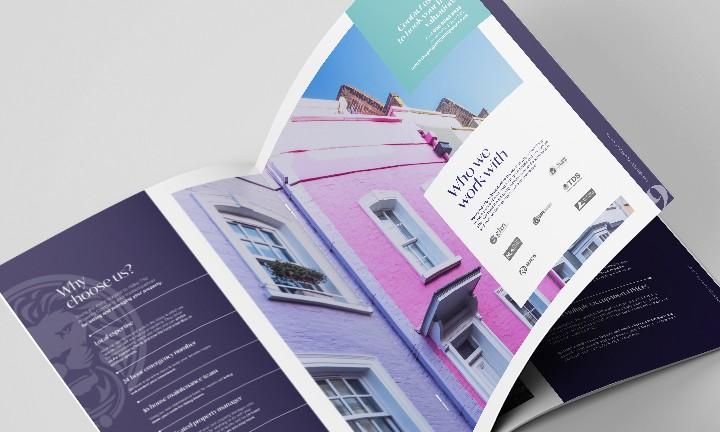paper: (0, 1, 720, 431)
